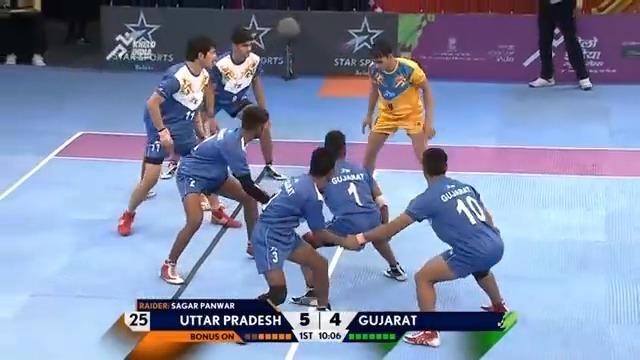Player: (345, 146, 509, 347), (116, 35, 228, 236), (289, 129, 407, 306), (159, 103, 272, 284), (250, 145, 367, 310), (201, 25, 287, 182)
Raider: (360, 39, 436, 179)
referee: (527, 0, 593, 90), (0, 0, 48, 66), (62, 0, 93, 45)
